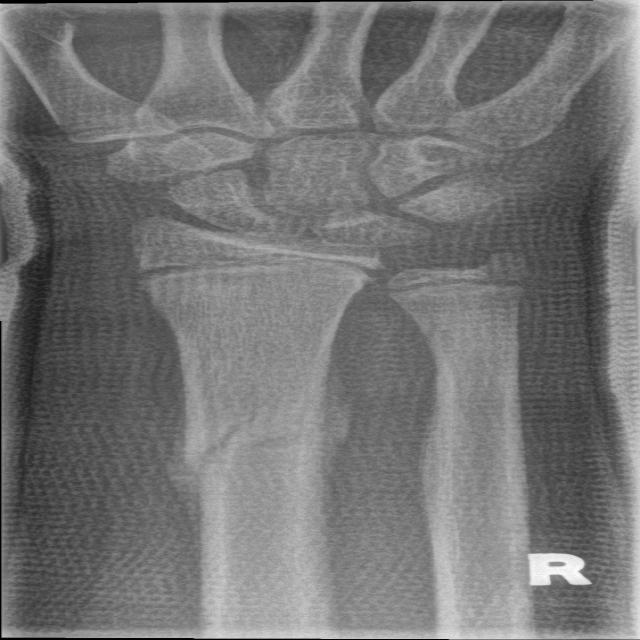radius fracture: (134, 347, 389, 548)
